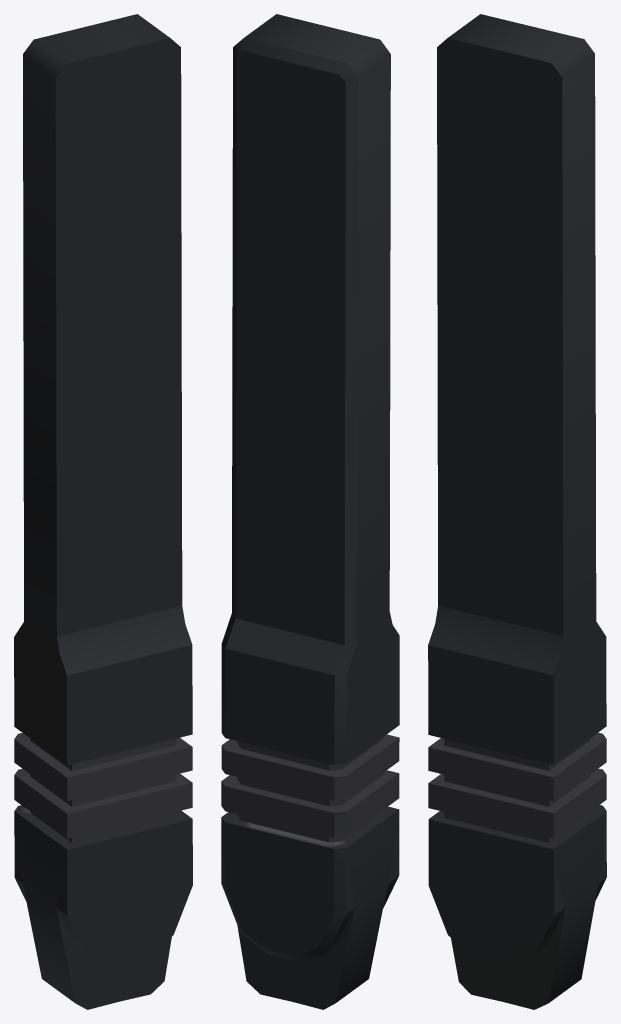
Rendered from wifi_antenna_left.dae.
3 renders of one model, left to right at view 1: azimuth 30°, elevation 25°; view 2: azimuth 150°, elevation 25°; view 3: azimuth 330°, elevation 25°, orthographic.
Parts seen in each view (by area): view 1: wifi_antenna_left; view 2: wifi_antenna_left; view 3: wifi_antenna_left.
Boxes of the visible parts, x1=… form: wifi_antenna_left: x1=14, y1=14, x2=192, y2=1009; wifi_antenna_left: x1=221, y1=14, x2=399, y2=1009; wifi_antenna_left: x1=428, y1=14, x2=606, y2=1009.
Bounding box in the file's own units: 0.0115 × 0.00899 × 0.0826.
1 material, 1 textured.
